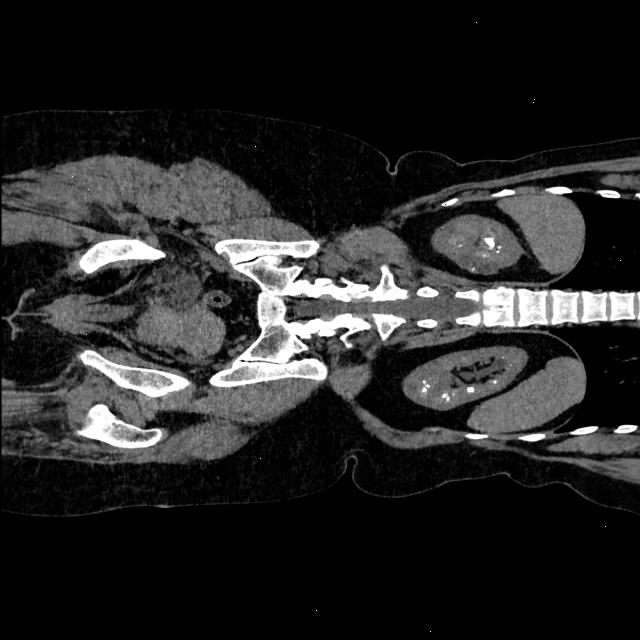kidneystone: (483, 238, 495, 249), (417, 384, 430, 394), (496, 246, 503, 254), (443, 395, 450, 401), (466, 389, 473, 392), (492, 379, 496, 384), (471, 270, 476, 272), (459, 244, 461, 248)
